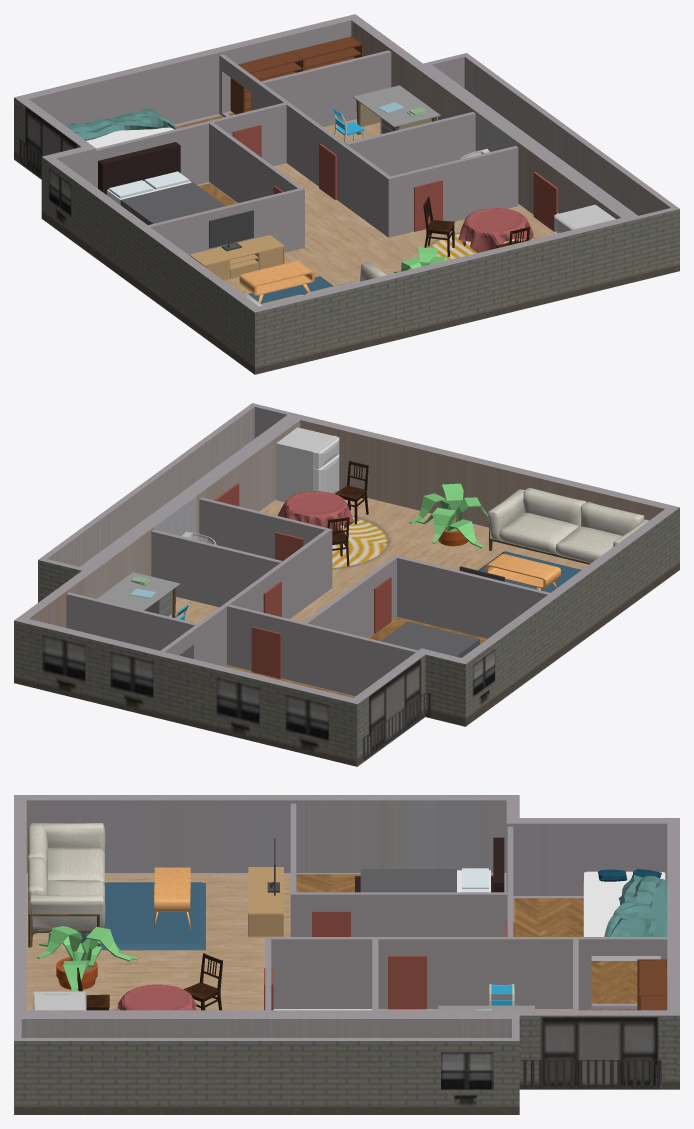
Rendered from room1.gltf.
3 renders of one model, top to bottom at view 1: azimuth 30°, elevation 25°; view 2: azimuth 150°, elevation 25°; view 3: azimuth 270°, elevation 25°, orthographic. The views are drawn at different scales.
Visible parts, largest first — view 1: 立方体.003, 立方体.001, pCube116_mobili_esportati:libreria_0, mobili_esportati:lato2_mobili_esportati:scrivania_cassetti_0, tvCabinet3_wood_0, oreiller_5, pPlane6_tovaglia_0, end_table_0, TV_TV material_0, 立方体.002, 立方体.005, pCube182_frigo_0.001 (+5 smaller); view 2: 立方体.003, 立方体.001, pCube182_frigo_0.001, pCylinder56_vase_0, mobili_esportati:lato2_mobili_esportati:scrivania_cassetti_0, pPlane6_tovaglia_0, end_table_0, 立方体.008, Seat_low_Chair_0.002, 立方体.006, pCube118_tappeto_0, 立方体.005 (+1 smaller); view 3: 立方体.003, 立方体.001, oreiller_5, pCube118_tappeto_0, pCylinder56_vase_0, tvCabinet3_wood_0, 立方体.004, end_table_0, pPlane6_tovaglia_0, pCube116_mobili_esportati:libreria_0, pCube182_frigo_0.001, Seat_low_Chair_0.001 (+2 smaller).
Part boxes in pixels (x1,y1,x2,y2): 立方体.003: [14, 14, 679, 374]; 立方体.001: [96, 50, 518, 255]; pCube116_mobili_esportati:libreria_0: [230, 36, 362, 114]; mobili_esportati:lato2_mobili_esportati:scrivania_cassetti_0: [353, 85, 440, 134]; tvCabinet3_wood_0: [189, 235, 284, 280]; oreiller_5: [67, 108, 176, 148]; pPlane6_tovaglia_0: [458, 208, 533, 252]; end_table_0: [239, 261, 314, 303]; TV_TV material_0: [209, 210, 253, 251]; 立方体.002: [533, 172, 558, 231]; 立方体.005: [414, 180, 442, 231]; pCube182_frigo_0.001: [554, 204, 615, 234]; 立方体.003: [14, 403, 679, 766]; 立方体.001: [66, 497, 549, 696]; pCube182_frigo_0.001: [276, 427, 339, 502]; pCylinder56_vase_0: [409, 483, 488, 548]; mobili_esportati:lato2_mobili_esportati:scrivania_cassetti_0: [97, 572, 179, 617]; pPlane6_tovaglia_0: [277, 491, 353, 530]; end_table_0: [485, 554, 560, 590]; 立方体.008: [251, 626, 281, 678]; Seat_low_Chair_0.002: [335, 460, 368, 524]; 立方体.006: [374, 577, 391, 633]; pCube118_tappeto_0: [478, 551, 581, 592]; 立方体.005: [275, 532, 304, 561]; 立方体.003: [14, 795, 679, 1114]; 立方体.001: [265, 803, 667, 1010]; oreiller_5: [583, 869, 667, 960]; pCube118_tappeto_0: [80, 882, 205, 950]; pCylinder56_vase_0: [37, 926, 137, 991]; tvCabinet3_wood_0: [248, 867, 283, 937]; 立方体.004: [388, 956, 426, 1009]; end_table_0: [153, 867, 191, 929]; pPlane6_tovaglia_0: [117, 984, 196, 1010]; pCube116_mobili_esportati:libreria_0: [637, 959, 667, 1010]; pCube182_frigo_0.001: [33, 991, 86, 1010]; Seat_low_Chair_0.001: [183, 953, 222, 1010].
Size of the model in its own units: 30.02 by 5.06 by 34.34.
Materials: 40 (5 with a texture image).
